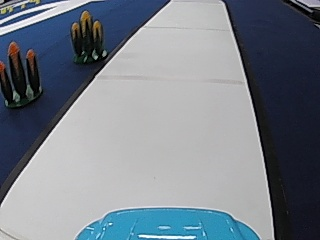corn: (1, 41, 43, 108), (68, 8, 108, 64)
